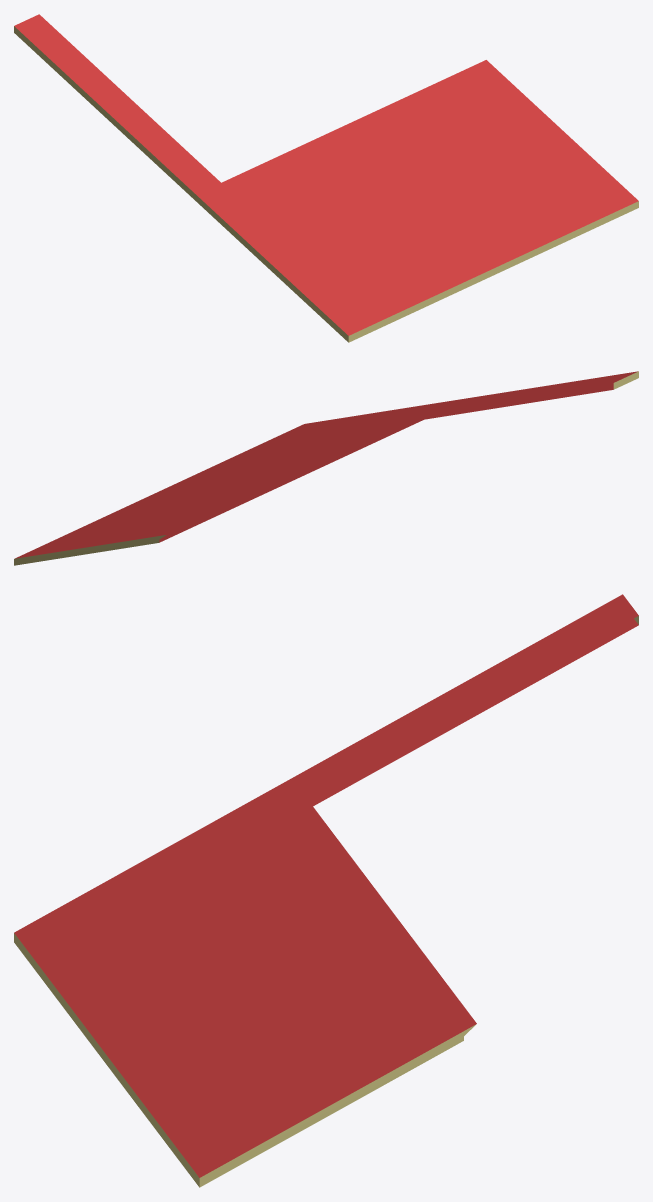
The picture shows the model from 3 angles, top to bottom: view 1: azimuth 30°, elevation 25°; view 2: azimuth 210°, elevation 25°; view 3: azimuth 270°, elevation 25°; orthographic projection. The views are drawn at different scales.
Size of the model in its own units: 7.28 by 5.87 by 2.76.
